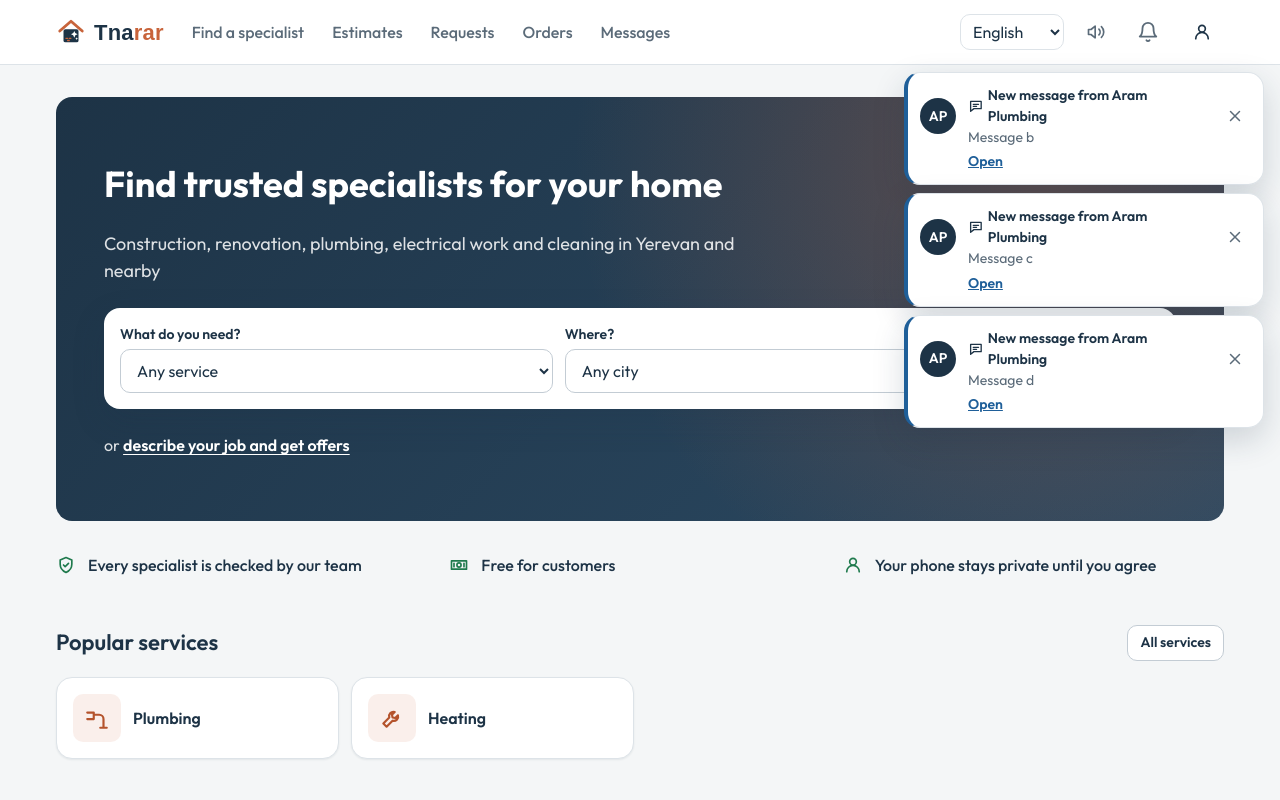
New-message alerts › closes notices by hand and keeps the newest three
Expected: the number of messages is 3, [904, 72, 1264, 185]; [904, 193, 1264, 307]; [904, 315, 1264, 428]
Expected: the element named "New messages" does not show "Message a", [904, 72, 1264, 428]
Click the button named "Close notification" in the row of "Message b".
click(1235, 116)  # box [1219, 100, 1251, 132]
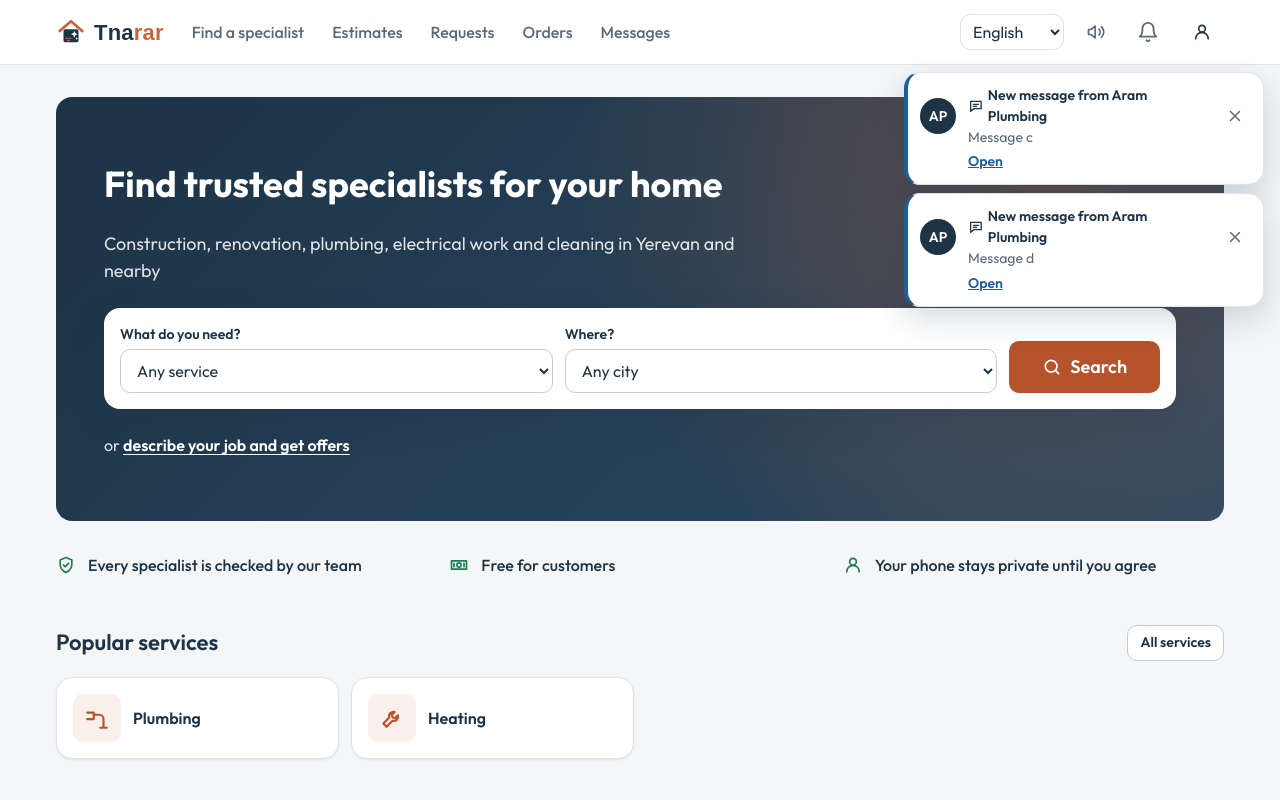
Expected: the element named "New messages" shows "Message c", [968, 128, 1033, 146]
Now the element named "New messages" no longer shows "Message b", box [904, 72, 1264, 307]
